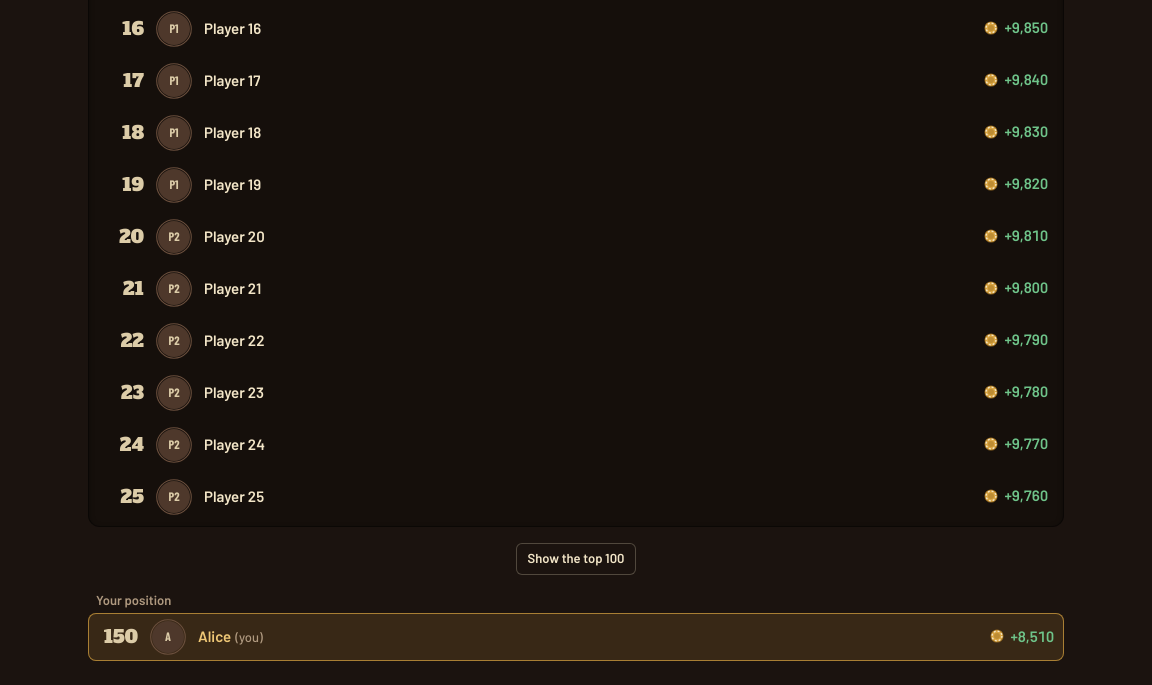
Test case: LeaderboardScreen › shows more rows on request, still pinning you if you are further down
The width and height of the screenshot is (1152, 685).
(page scrolled)
Click the button "Show the top 100" at (576, 558), box 516,542 -> 636,574
(page scrolled)
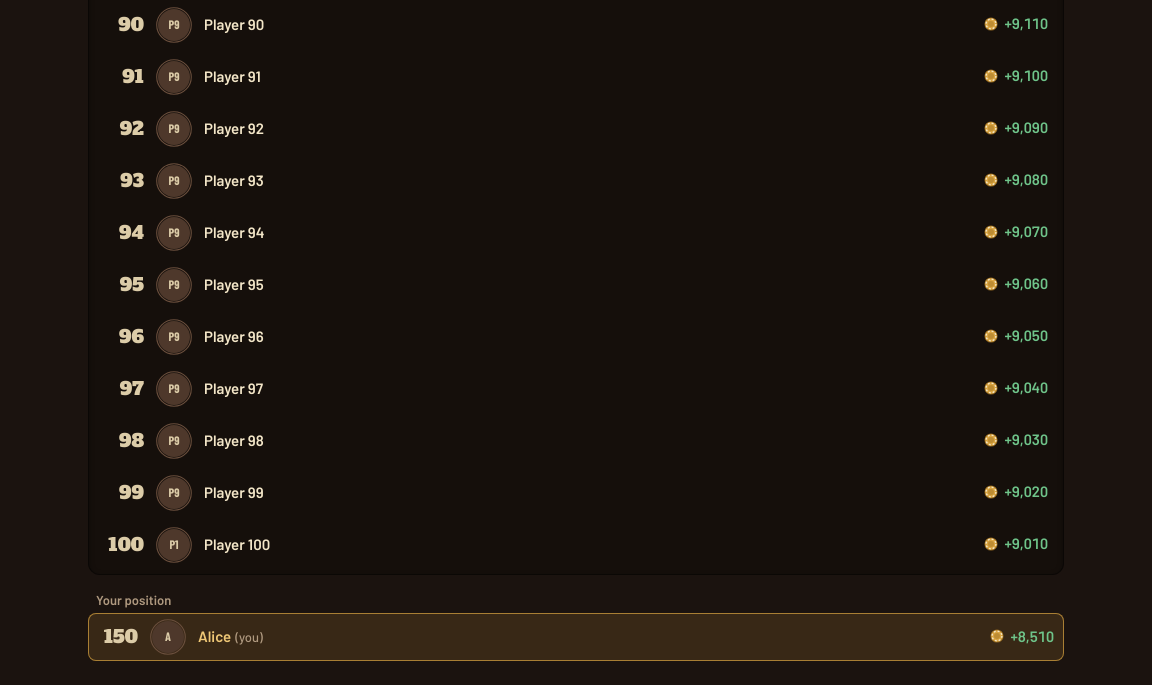
expect the button "150 A Alice(you) +8,510" is shown: met, box 88,613 -> 1064,661
expect the button "Show the top" is gone: met
